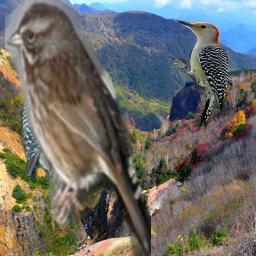Sparrow: (5, 0, 151, 256)
Woodpecker: (20, 38, 84, 185), (171, 17, 228, 133)
